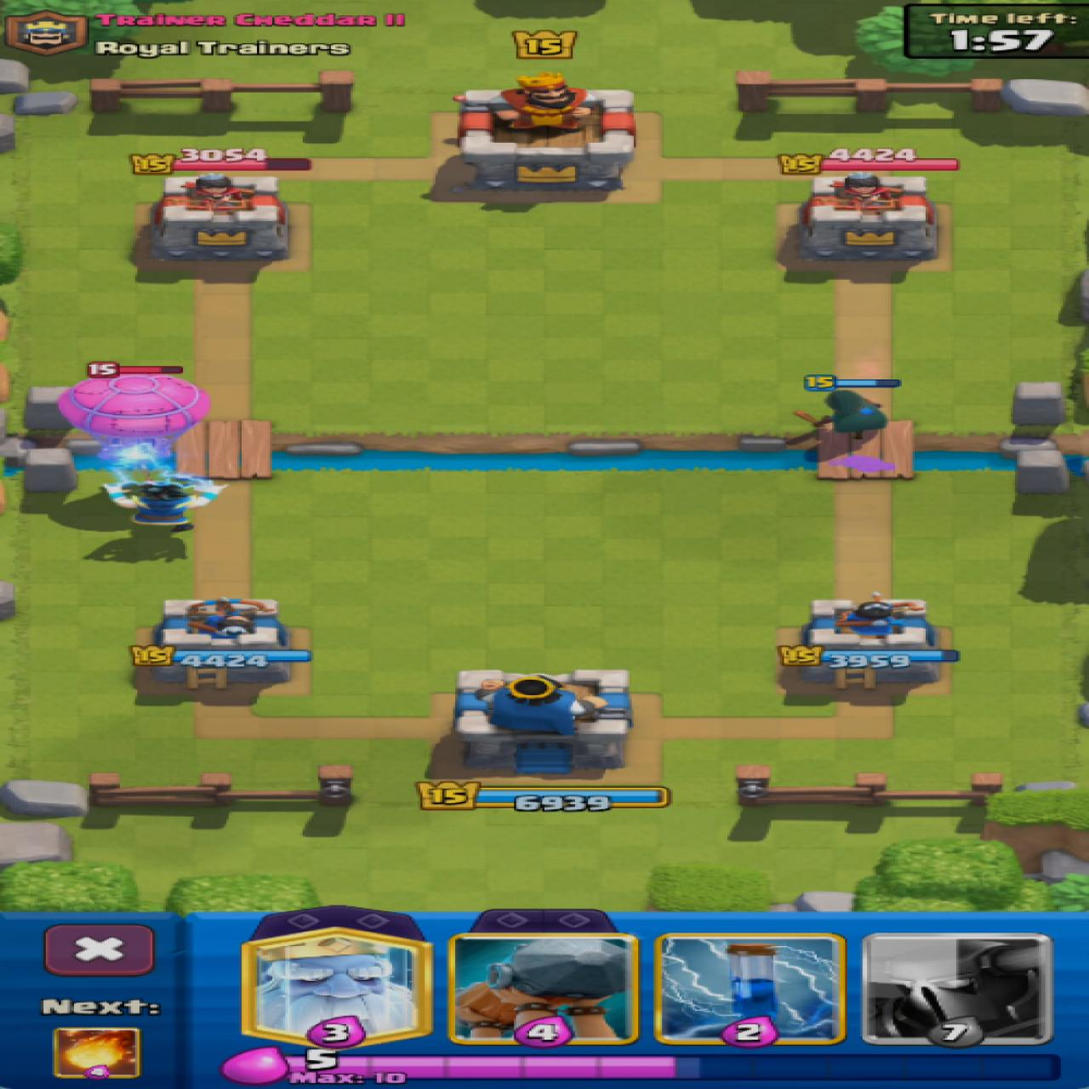Enemy-Balloon: (59, 373, 207, 463)
Enemy-KingTower: (460, 73, 634, 193)
Enemy-PrincessTower: (799, 171, 937, 262), (150, 173, 287, 260)
